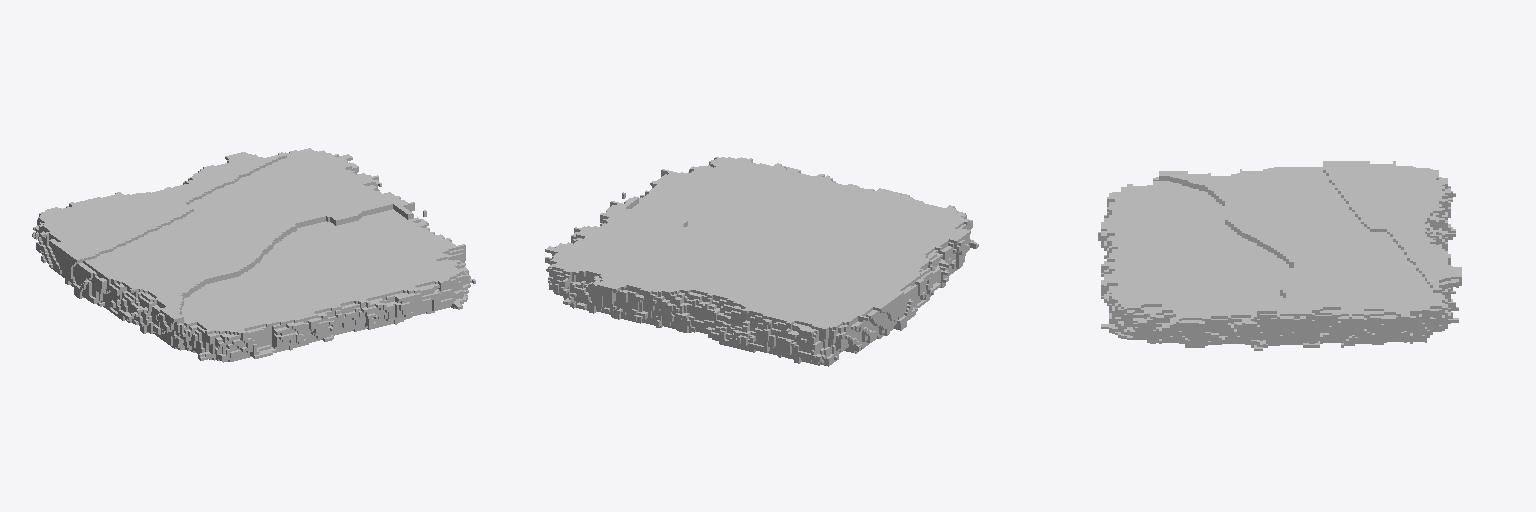
Rendered from Plain 1.obj.
3 views of the same model, side by side, from view 1: azimuth 30°, elevation 25°; view 2: azimuth 150°, elevation 25°; view 3: azimuth 270°, elevation 25° (orthographic).
Size of the model in its own units: 126 by 14 by 126.